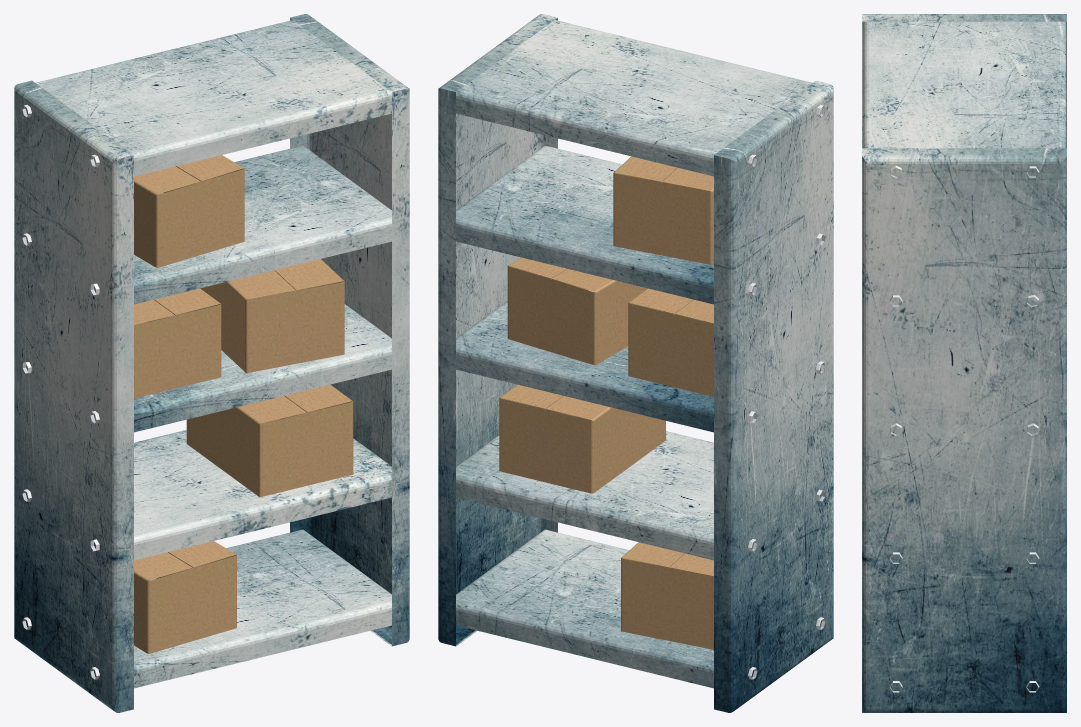
The model's file is rack.glb.
3 renders of one model, left to right at view 1: azimuth 30°, elevation 25°; view 2: azimuth 150°, elevation 25°; view 3: azimuth 270°, elevation 25°, orthographic.
Visible parts, largest first — view 1: Material2 (×9), Material3 (×5); view 2: Material2 (×9), Material3 (×5); view 3: Material2 (×3).
Boxes of the visible parts, x1,y1,x2,y2 form: Material2 (×9): (14, 14, 409, 712); Material3 (×5): (134, 155, 351, 579); Material2 (×9): (438, 14, 833, 712); Material3 (×5): (501, 156, 713, 576); Material2 (×3): (862, 14, 1066, 712).
Bounding box in the file's own units: 41.49 × 72 × 24.
4 materials, 2 textured.
